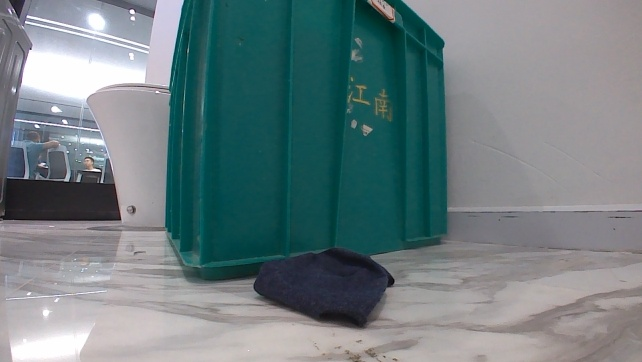socks: (249, 245, 396, 328)
toilet: (85, 79, 171, 230)
